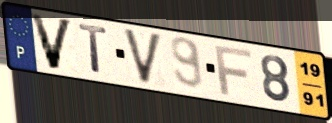8: (259, 54, 294, 104)
9: (170, 35, 206, 94)
F: (212, 44, 254, 97)
T: (77, 21, 110, 77)
V: (28, 11, 76, 72), (121, 27, 165, 88)
